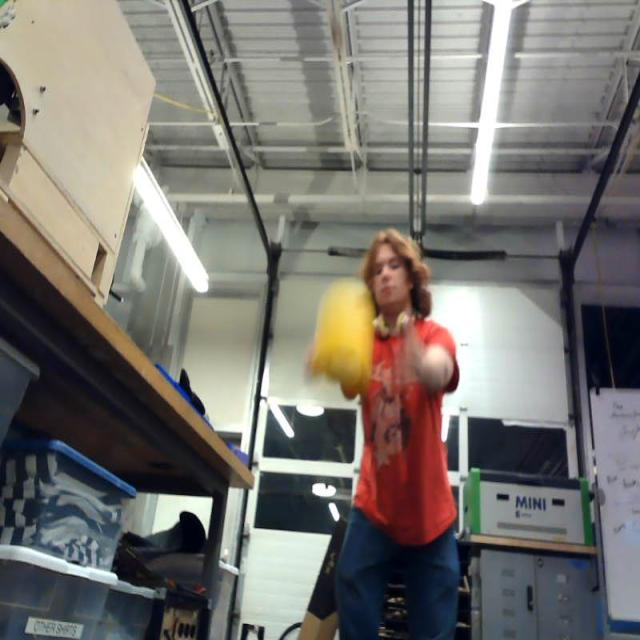Fuel: (314, 290, 372, 400)
